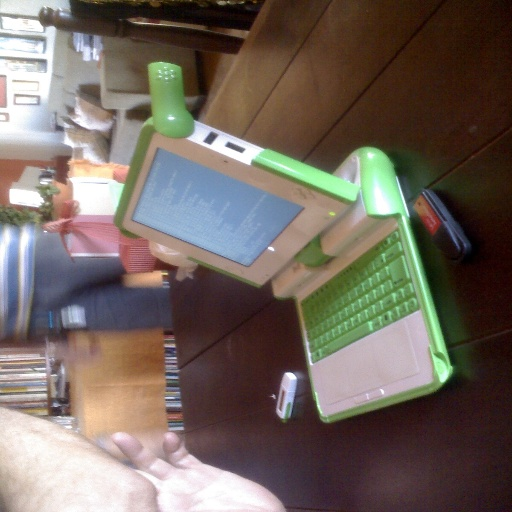hand: (78, 432, 272, 512)
